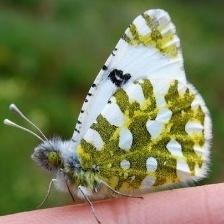butterfly: (33, 9, 213, 196)
